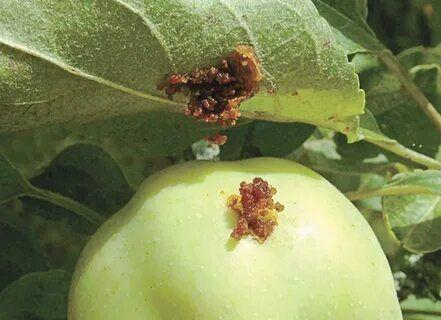Apple: (69, 158, 405, 318)
